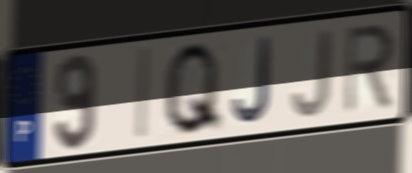9: (53, 50, 99, 154)
I: (133, 44, 154, 144)
J: (289, 26, 334, 121), (230, 34, 273, 127)
Q: (161, 39, 225, 140)
R: (343, 20, 397, 118)
